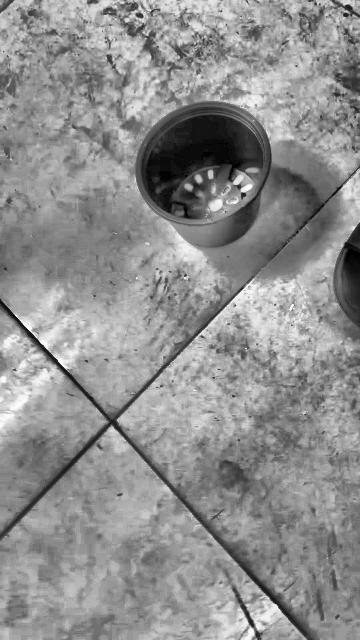pot: (136, 103, 272, 248)
